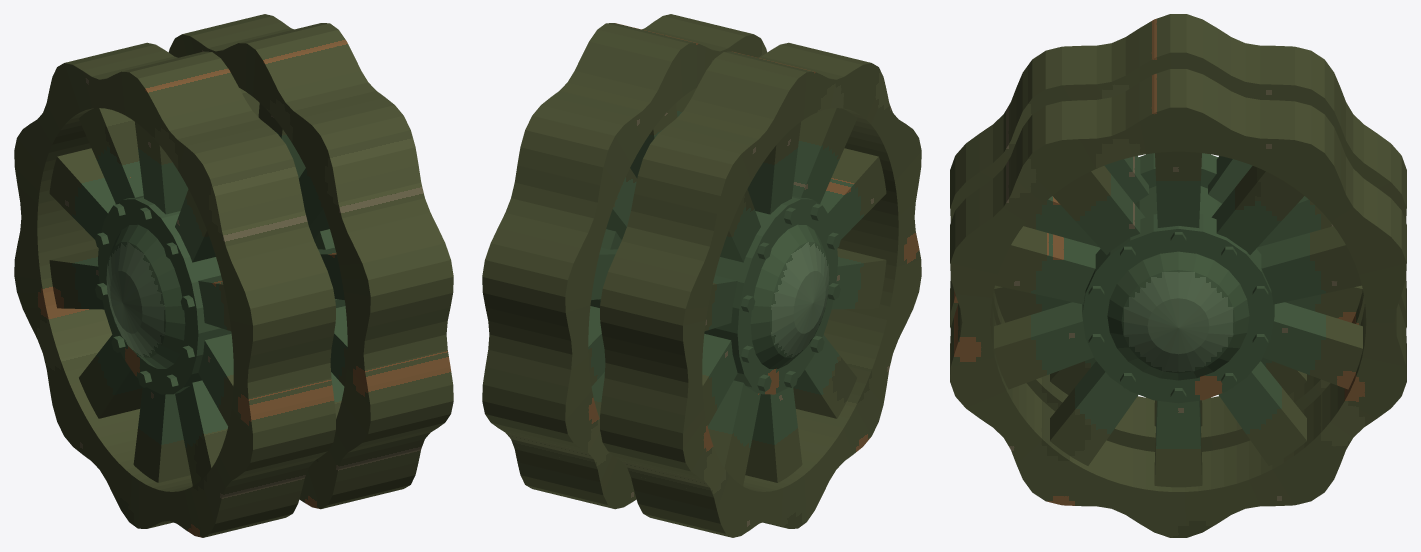
3 renders of one model, left to right at view 1: azimuth 30°, elevation 25°; view 2: azimuth 150°, elevation 25°; view 3: azimuth 270°, elevation 25°, orthographic. The views are drawn at different scales.
Parts seen in each view (by area): view 1: band_in, band_out, ribs_in.001, hub_in.001, ribs_out.001; view 2: band_in, band_out, ribs_in.001, hub_in.001, ribs_out.001; view 3: band_out, ribs_out.001, band_in, hub_out.001, ribs_in.001, hub_in.001, barrel.001.
Part boxes in pixels (x1,y1,x2,y2): band_in: [14, 42, 335, 537]; band_out: [168, 14, 453, 509]; ribs_in.001: [49, 108, 233, 485]; hub_in.001: [95, 196, 231, 394]; ribs_out.001: [239, 88, 347, 418]; band_in: [600, 42, 921, 537]; band_out: [482, 14, 767, 509]; ribs_in.001: [702, 108, 886, 485]; hub_in.001: [704, 196, 840, 394]; ribs_out.001: [588, 88, 696, 418]; band_out: [950, 69, 1406, 537]; ribs_out.001: [994, 151, 1362, 487]; band_in: [950, 14, 1406, 451]; hub_out.001: [1082, 214, 1274, 403]; ribs_in.001: [994, 156, 1362, 426]; hub_in.001: [1139, 153, 1217, 188]; barrel.001: [1135, 186, 1221, 217].
Size of the model in its own units: 0.268 by 0.5182 by 0.4985.
1 material, 1 textured.
